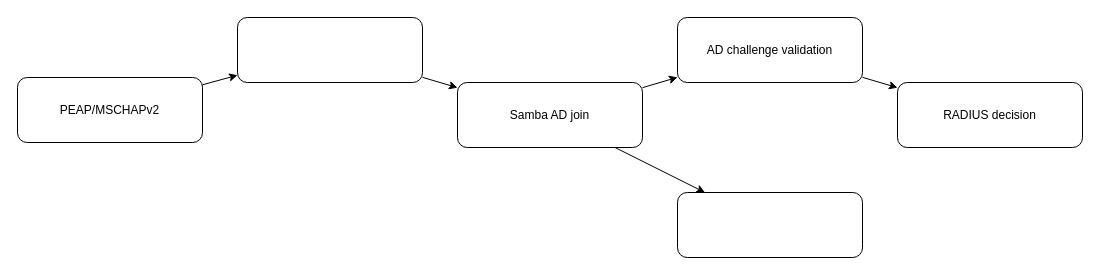
This 1100x275 diagram has some shape labels left out. Here are the shapes that lost their labels. From the top down, the centre of each, then its label:
At (329,49): "Winbind ntlm_auth".
At (769,225): "FreeIPA not AD".
